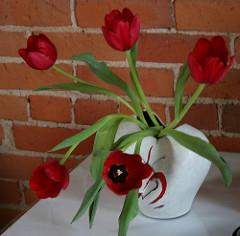tulip: (103, 152, 155, 193), (188, 36, 231, 84), (28, 160, 69, 202), (101, 9, 142, 49), (19, 32, 56, 71)
